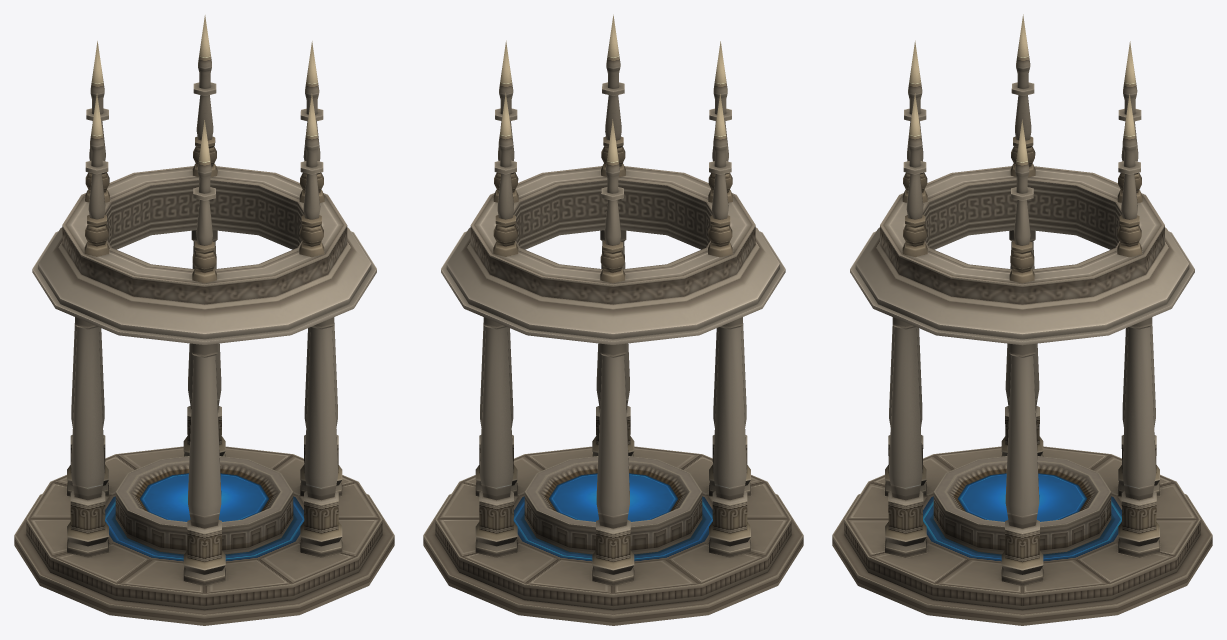
The model's file is Portal_01.FBX.
The picture shows the model from 3 angles, left to right: view 1: azimuth 30°, elevation 25°; view 2: azimuth 150°, elevation 25°; view 3: azimuth 270°, elevation 25°; orthographic projection.
Parts seen in each view (by area): view 1: Portal_01; view 2: Portal_01; view 3: Portal_01.
Part boxes in pixels (x1,y1,x2,y2): Portal_01: [14, 15, 394, 625]; Portal_01: [423, 14, 803, 625]; Portal_01: [832, 14, 1212, 625].
Size of the model in its own units: 111 by 154 by 111.
